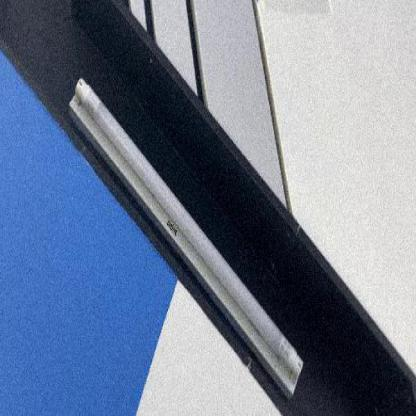light_off: (61, 65, 310, 413)
